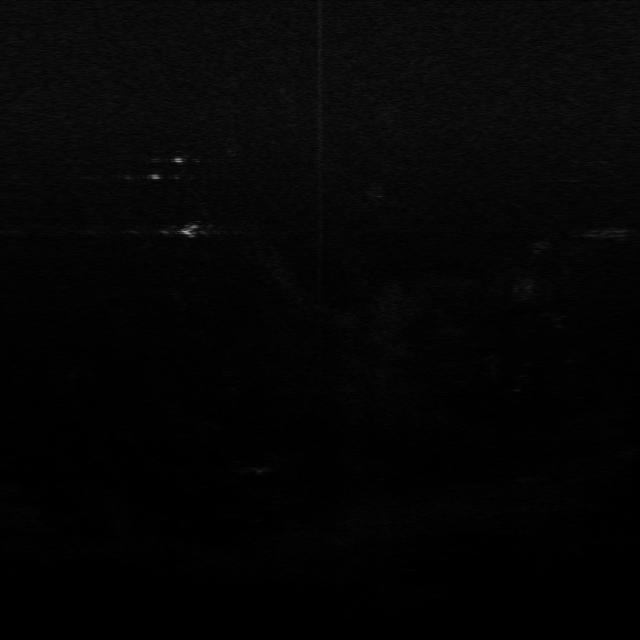rov: (173, 220, 211, 242)
